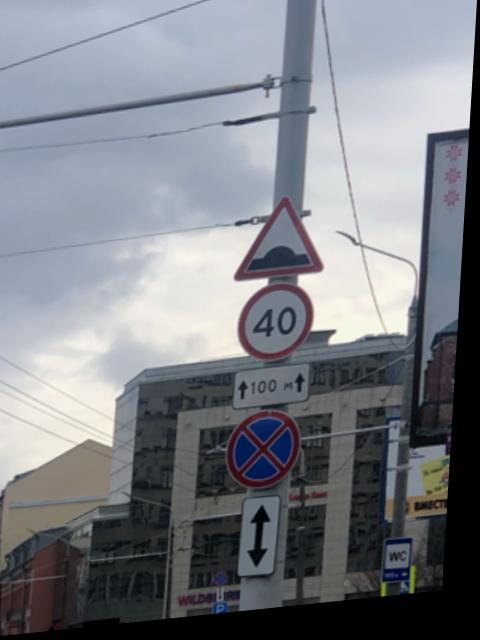limit40: (241, 284, 320, 374)
